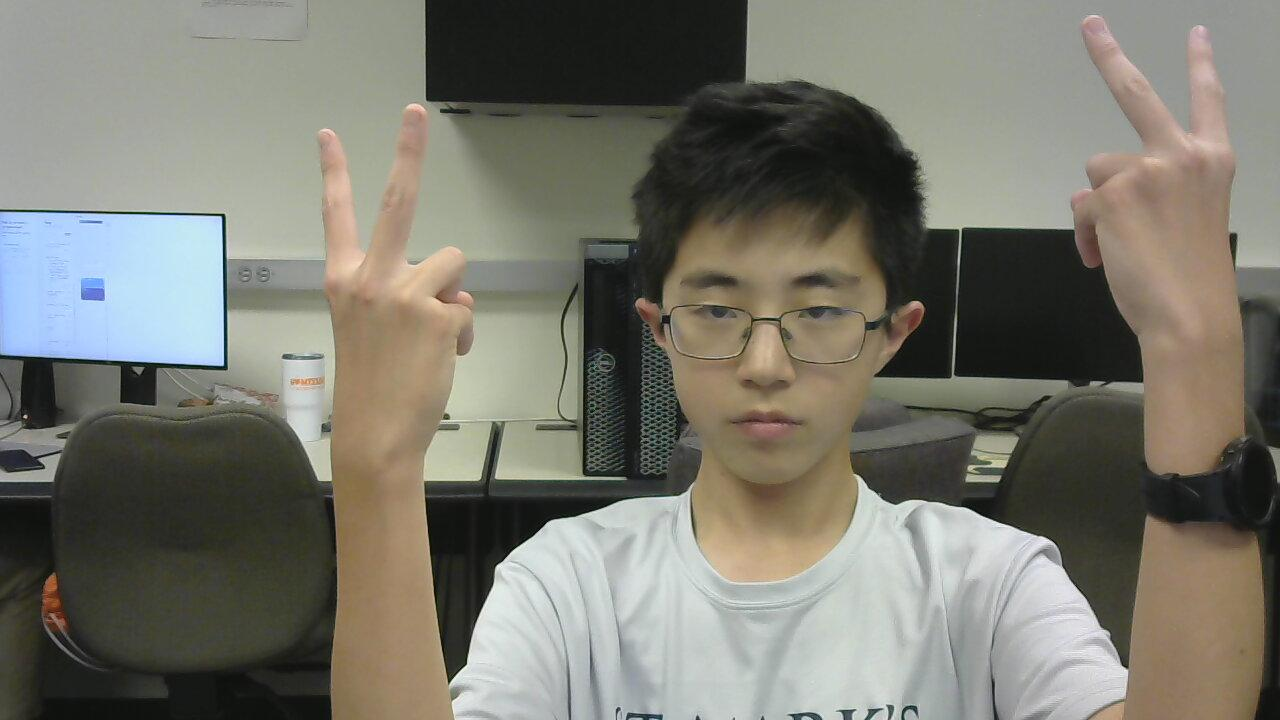peace: (1051, 0, 1250, 353), (301, 97, 486, 450)
